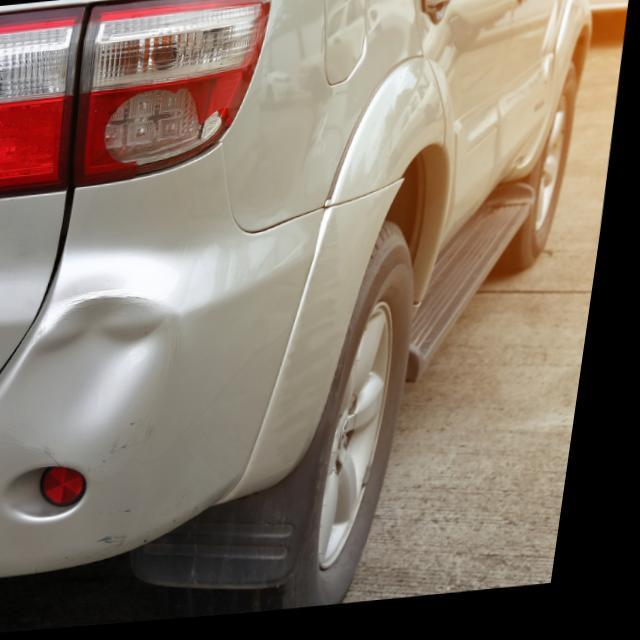dent: (19, 296, 177, 455)
lamp broken: (75, 0, 271, 190)
scratch: (114, 536, 146, 549)
